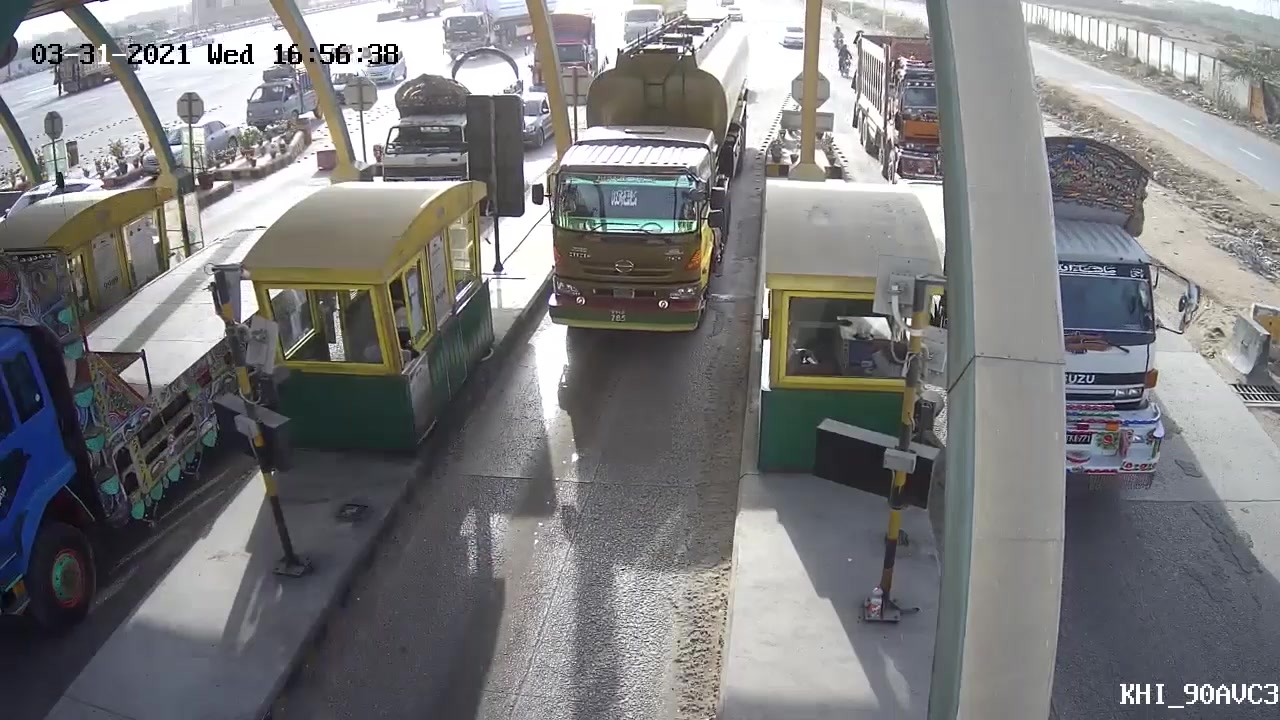F6: (522, 7, 760, 351)
